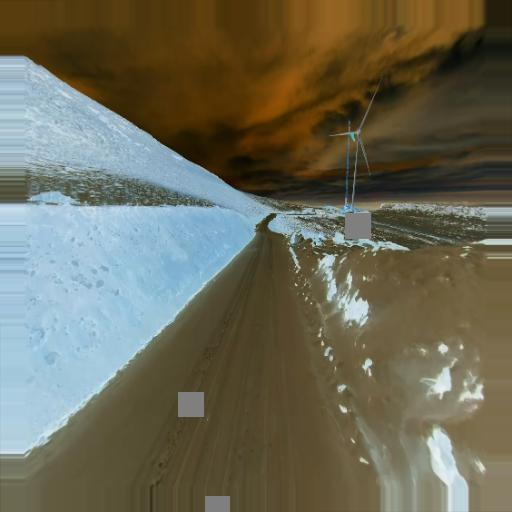wind turbine: (328, 80, 382, 215)
